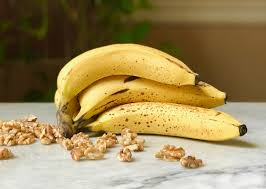banana: (46, 42, 252, 148)
